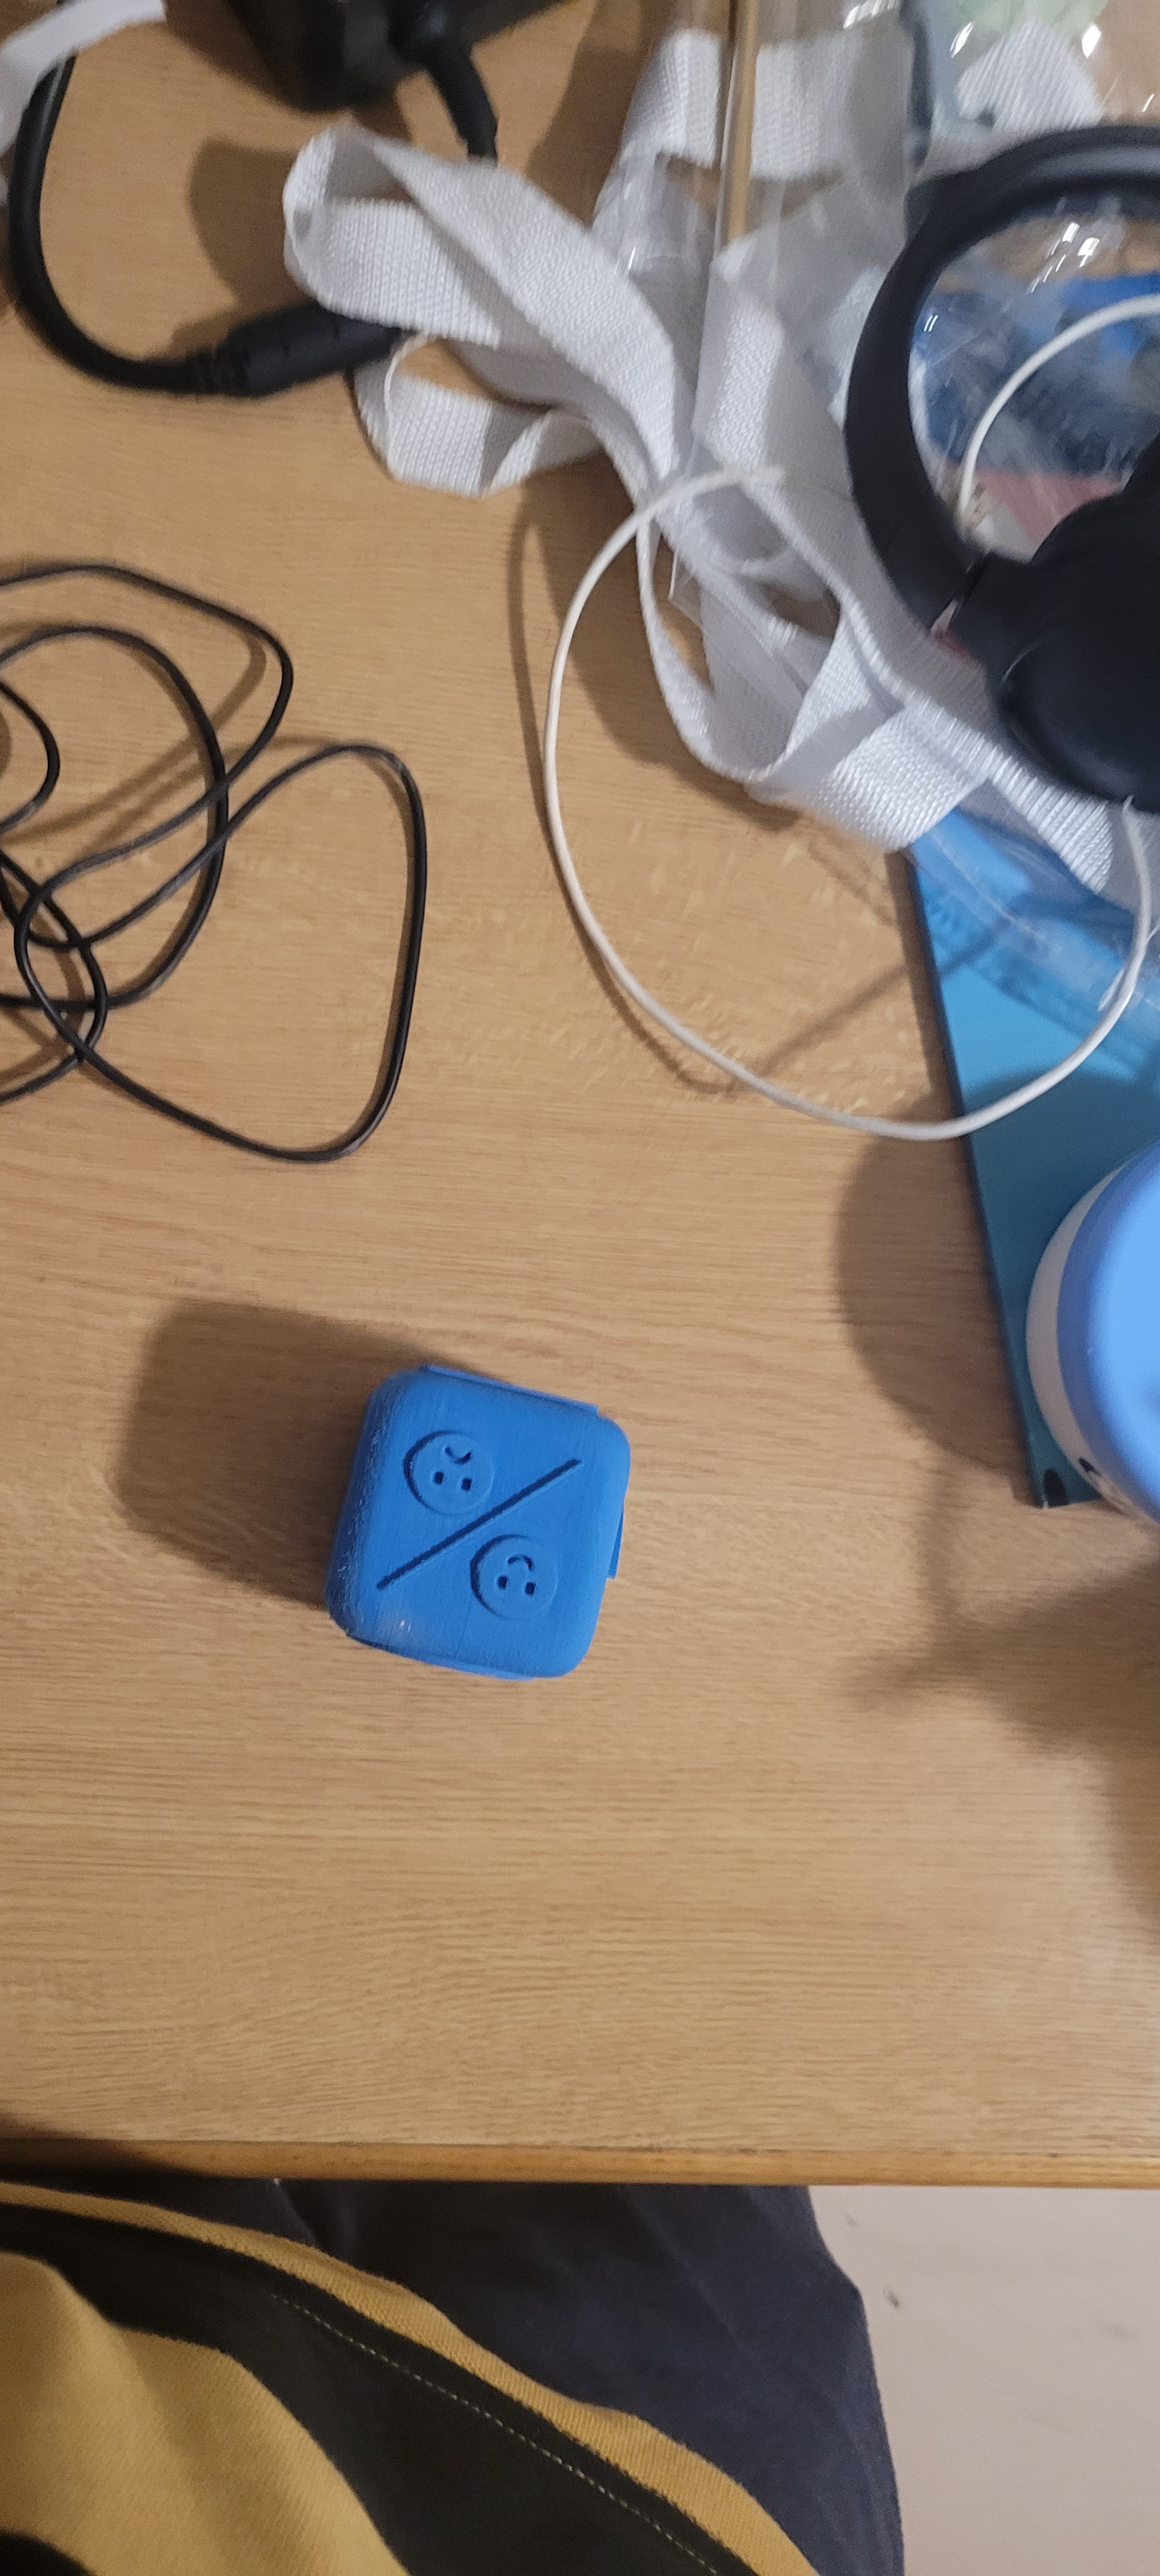Like/Dislike: (373, 1380, 611, 1653)
